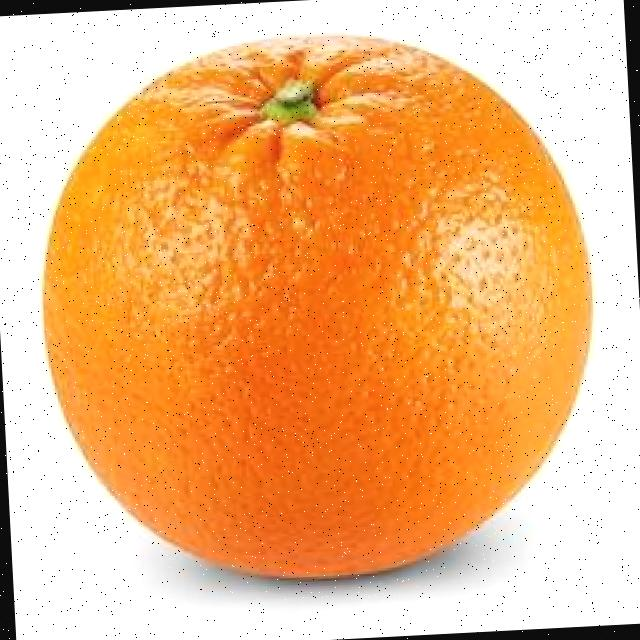orange: (27, 14, 611, 590)
